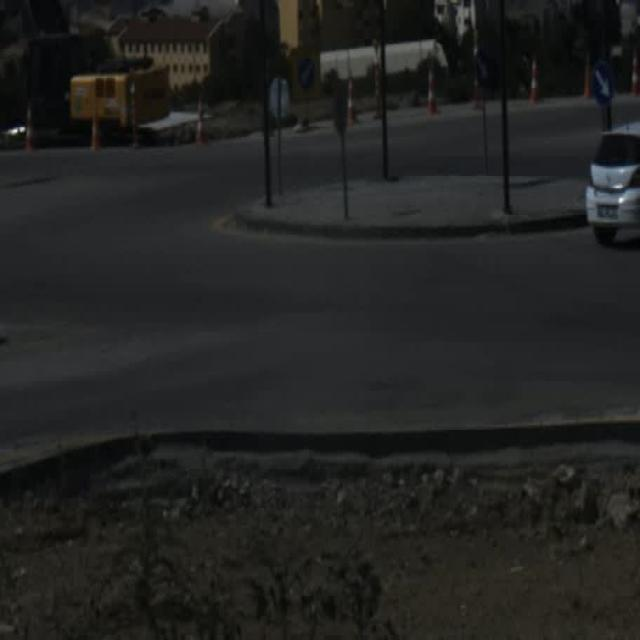Car: (583, 122, 640, 246)
